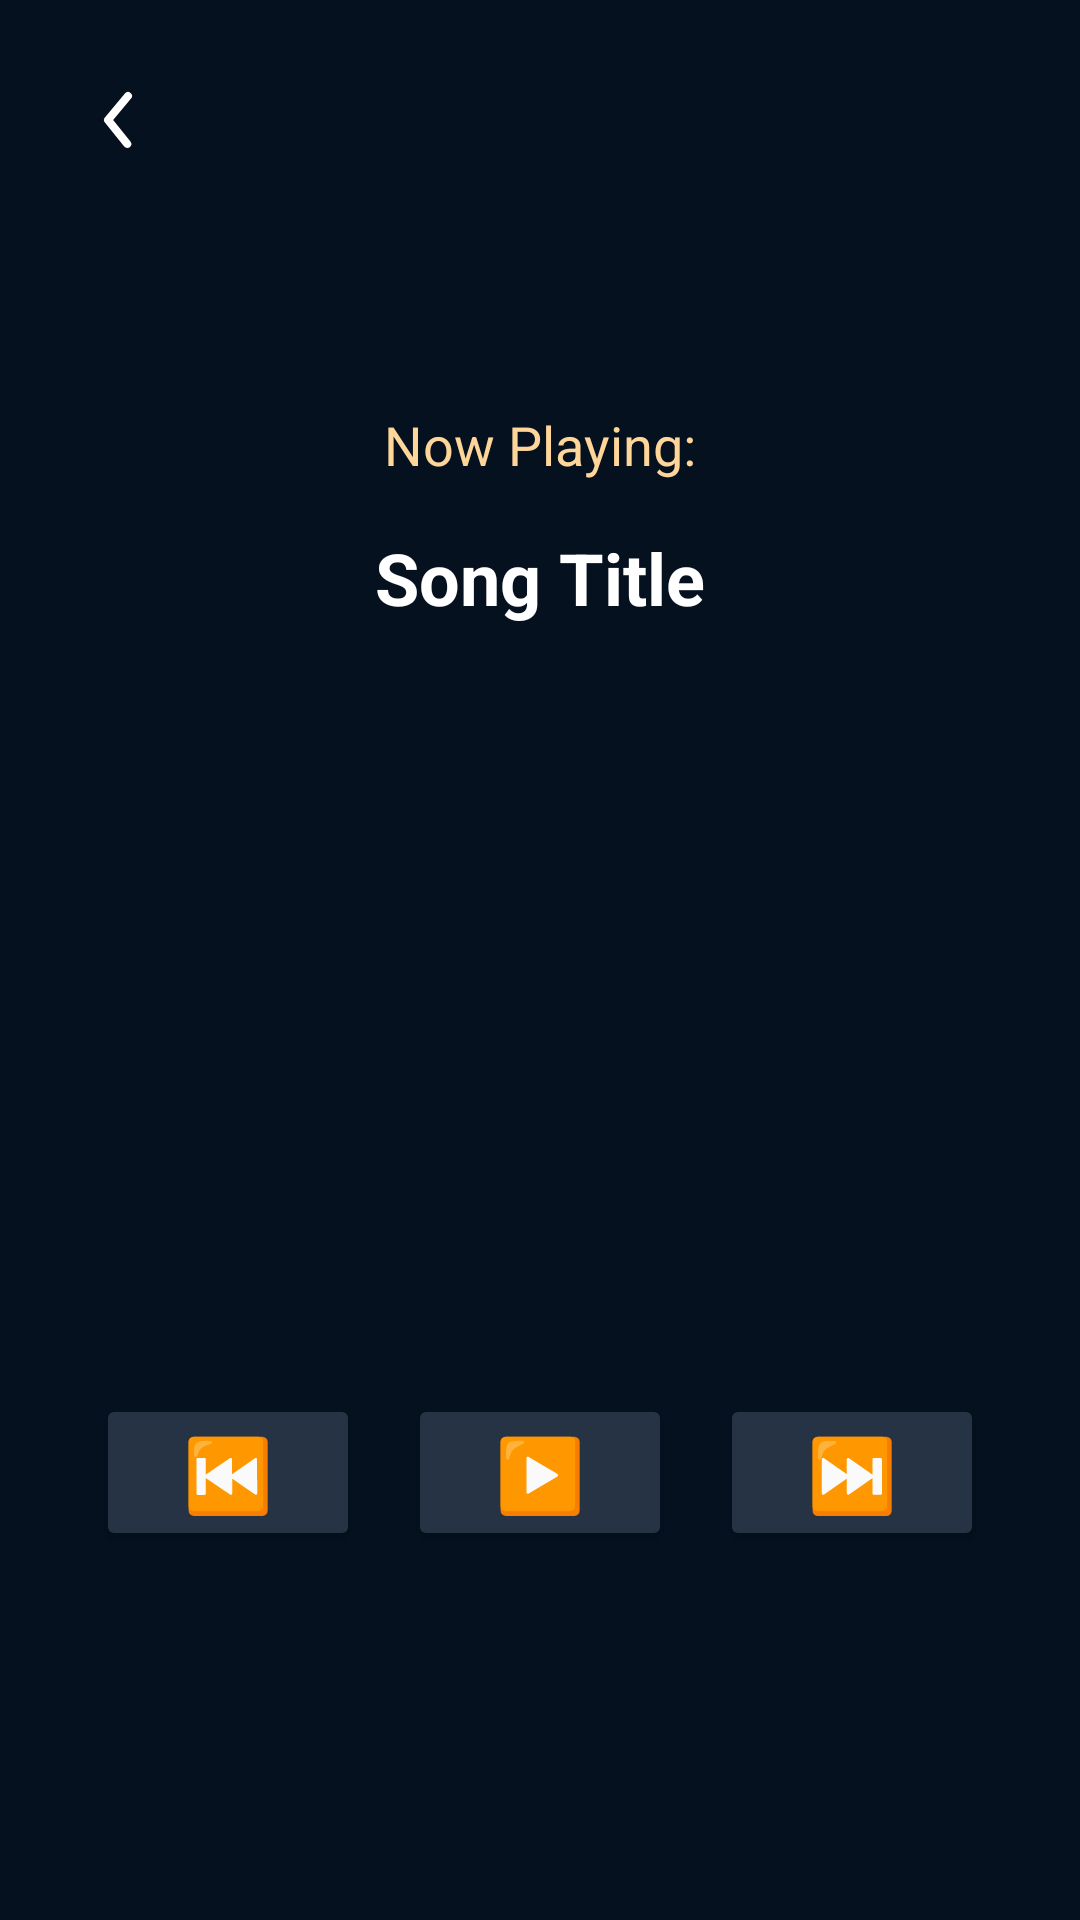

Screen size 1080 x 1920. Icon name, then its center in pixels as (x=x, y=y):
Back: (x=118, y=119)
